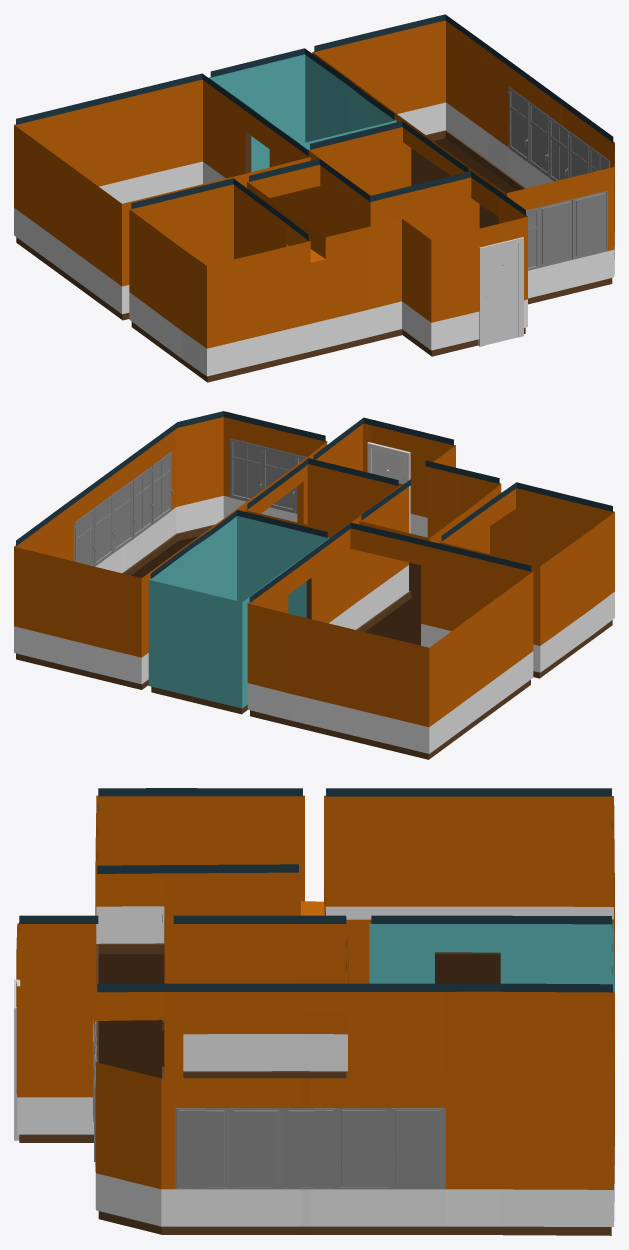
The model's file is Casa15.FBX.
3 views of the same model, one above another, from view 1: azimuth 30°, elevation 25°; view 2: azimuth 150°, elevation 25°; view 3: azimuth 270°, elevation 25° (orthographic). The views are drawn at different scales.
Parts seen in each view (by area): view 1: Plane001, Box002, AI33_008_windows_002_033, AI33_008_windows_002_038, Box001, AI33_008_windows_002_013, AI33_008_windows_002_08, AI33_008_windows_002_018, AI33_008_windows_002_05, AI33_008_windows_002_011; view 2: Plane001, AI33_008_windows_002_033, Box002, AI33_008_windows_002_028, AI33_008_windows_002_018, AI33_008_windows_002_038, AI33_008_windows_002_023, AI33_008_windows_002_013, AI33_008_windows_002_031, AI33_008_windows_002_08, Box001, AI33_008_windows_002_026 (+4 smaller); view 3: Plane001, AI33_008_windows_002_08, AI33_008_windows_002_013, AI33_008_windows_002_018, AI33_008_windows_002_023, AI33_008_windows_002_028, AI33_008_windows_002_011, AI33_008_windows_002_021, AI33_008_windows_002_016, AI33_008_windows_002_05, AI33_008_windows_002_026, AI33_008_windows_002_022 (+3 smaller).
Boxes of the visible parts, x1,y1,x2,y2 form: Plane001: (14,14,614,382); Box002: (485,243,518,345); AI33_008_windows_002_033: (576,193,605,255); AI33_008_windows_002_038: (542,202,571,264); Box001: (478,237,523,346); AI33_008_windows_002_013: (531,106,547,171); AI33_008_windows_002_08: (511,92,526,156); AI33_008_windows_002_018: (551,121,566,180); AI33_008_windows_002_05: (509,87,529,161); AI33_008_windows_002_011: (529,102,548,176); Plane001: (14,411,614,759); AI33_008_windows_002_033: (233,442,260,498); Box002: (372,448,404,484); AI33_008_windows_002_028: (154,456,169,519); AI33_008_windows_002_018: (115,485,130,547); AI33_008_windows_002_038: (266,450,293,508); AI33_008_windows_002_023: (135,471,150,533); AI33_008_windows_002_013: (96,499,111,561); AI33_008_windows_002_031: (230,439,262,500); AI33_008_windows_002_08: (76,513,91,565); Box001: (367,442,410,533); AI33_008_windows_002_026: (152,452,173,523); Plane001: (16,788,614,1235); AI33_008_windows_002_08: (396,1111,440,1185); AI33_008_windows_002_013: (342,1111,386,1185); AI33_008_windows_002_018: (288,1111,332,1185); AI33_008_windows_002_023: (234,1111,278,1185); AI33_008_windows_002_028: (180,1111,224,1185); AI33_008_windows_002_011: (336,1108,389,1187); AI33_008_windows_002_021: (228,1108,281,1187); AI33_008_windows_002_016: (284,1108,335,1187); AI33_008_windows_002_05: (392,1109,443,1187); AI33_008_windows_002_026: (176,1109,227,1187); AI33_008_windows_002_022: (229,1108,283,1189).
Bounding box in the file's own units: 234 × 63.96 × 209.
